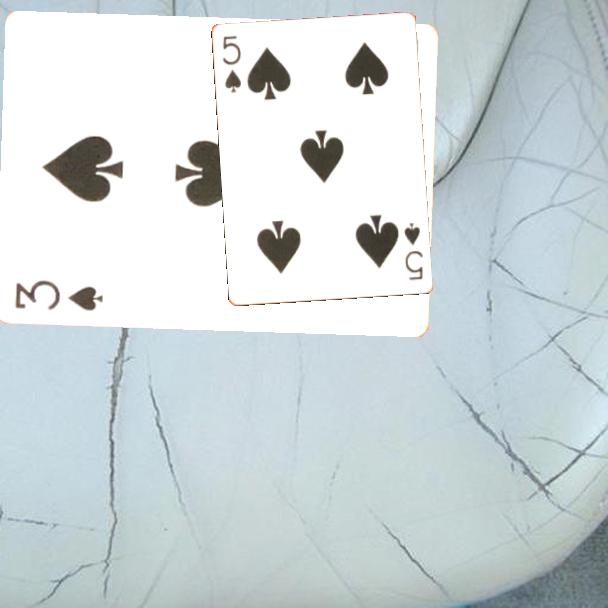s03: (12, 277, 106, 313)
s05: (401, 220, 426, 283), (219, 33, 244, 96)
